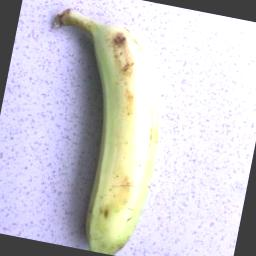Banana Ripe: (15, 2, 208, 256)
